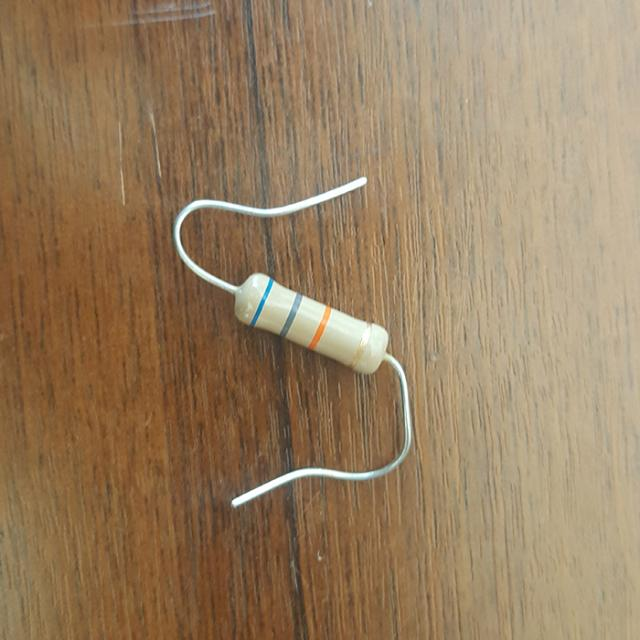blue: (250, 279, 272, 325)
gold: (350, 323, 372, 368)
grey: (280, 295, 302, 337)
orange: (308, 307, 331, 349)
resistor: (213, 248, 409, 395)
